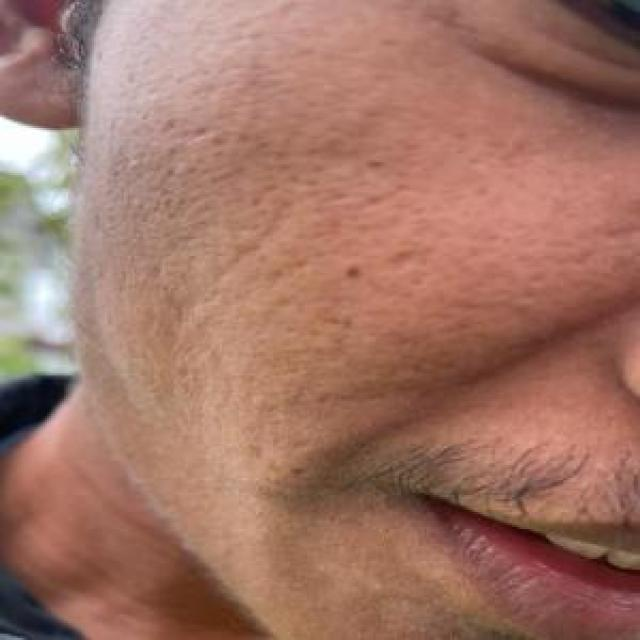Dry-Skin: (119, 45, 632, 466)
